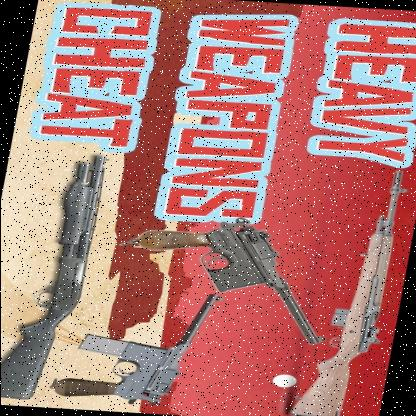rifle: (284, 165, 416, 416), (0, 152, 116, 402)
